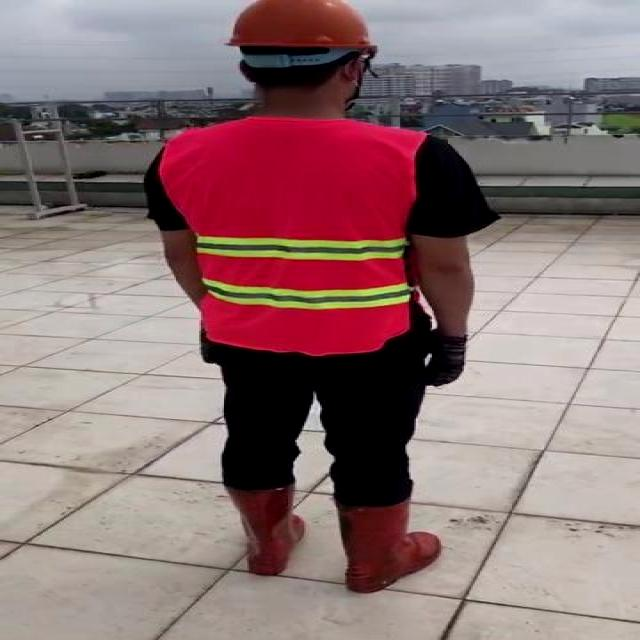boots: (336, 498, 443, 593), (225, 484, 308, 576)
hand_glove: (426, 331, 466, 386)
head_helmet: (209, 0, 387, 55)
person: (134, 0, 502, 601)
vest: (160, 118, 427, 354)
